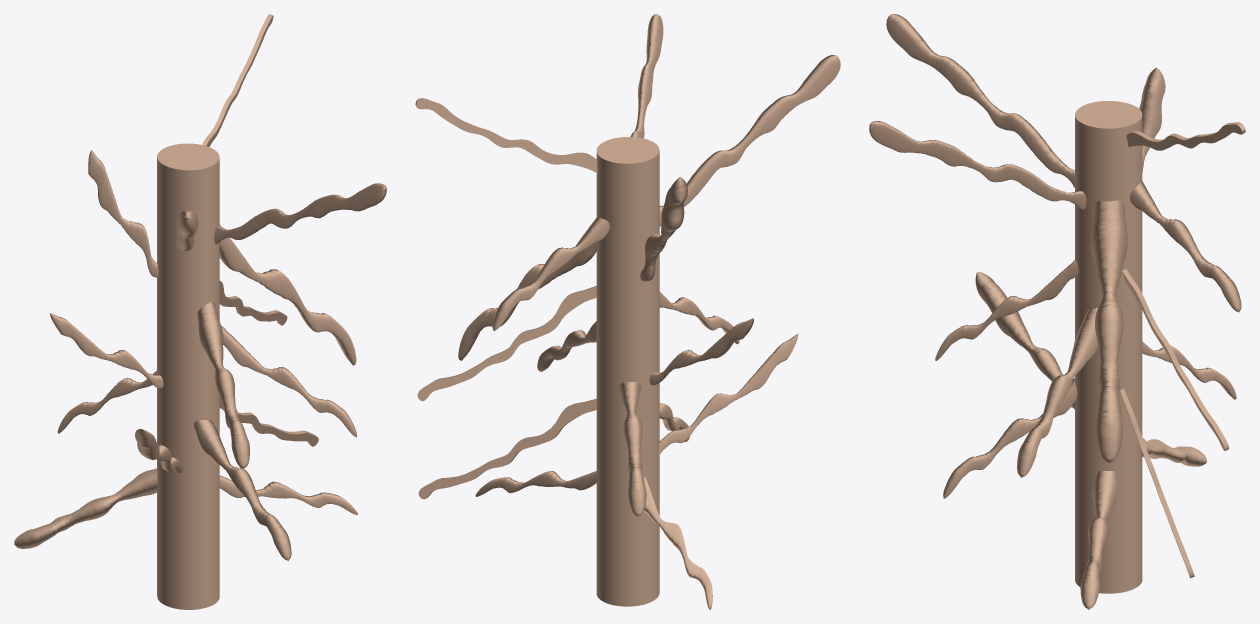
File: Tree_Start.glb
The picture shows the model from 3 angles, left to right: view 1: azimuth 30°, elevation 25°; view 2: azimuth 150°, elevation 25°; view 3: azimuth 270°, elevation 25°; orthographic projection. The views are drawn at different scales.
Parts seen in each view (by area): view 1: mesh_id38, mesh_id54, mesh_id52, mesh_id49, mesh_id63, mesh_id60, mesh_id55, mesh_id41, mesh_id64, mesh_id66, mesh_id53, mesh_id39 (+4 smaller); view 2: mesh_id38, mesh_id51, mesh_id68, mesh_id53, mesh_id69, mesh_id39, mesh_id65, mesh_id67, mesh_id41, mesh_id52, mesh_id49, mesh_id63 (+4 smaller); view 3: mesh_id38, mesh_id52, mesh_id51, mesh_id49, mesh_id55, mesh_id66, mesh_id67, mesh_id65, mesh_id54, mesh_id60, mesh_id68, mesh_id41 (+4 smaller).
Part boxes in pixels (bbox=[...]): mesh_id38: bbox=[157, 143, 219, 609]; mesh_id54: bbox=[197, 301, 249, 468]; mesh_id52: bbox=[219, 224, 356, 365]; mesh_id49: bbox=[214, 183, 386, 244]; mesh_id63: bbox=[14, 468, 157, 548]; mesh_id60: bbox=[194, 420, 291, 560]; mesh_id55: bbox=[221, 325, 356, 437]; mesh_id41: bbox=[88, 150, 158, 277]; mesh_id64: bbox=[49, 313, 163, 388]; mesh_id66: bbox=[219, 475, 357, 514]; mesh_id53: bbox=[57, 370, 156, 433]; mesh_id39: bbox=[202, 14, 273, 146]; mesh_id38: bbox=[596, 137, 659, 606]; mesh_id51: bbox=[659, 55, 840, 226]; mesh_id68: bbox=[417, 286, 596, 401]; mesh_id53: bbox=[618, 381, 646, 516]; mesh_id69: bbox=[418, 398, 596, 499]; mesh_id39: bbox=[415, 98, 597, 173]; mesh_id65: bbox=[658, 333, 798, 455]; mesh_id67: bbox=[492, 216, 609, 330]; mesh_id41: bbox=[640, 177, 687, 281]; mesh_id52: bbox=[458, 218, 596, 360]; mesh_id49: bbox=[630, 14, 663, 138]; mesh_id63: bbox=[643, 477, 712, 609]; mesh_id38: bbox=[1075, 101, 1142, 593]; mesh_id52: bbox=[1091, 200, 1127, 463]; mesh_id51: bbox=[886, 14, 1074, 187]; mesh_id49: bbox=[869, 121, 1086, 209]; mesh_id55: bbox=[1017, 308, 1097, 477]; mesh_id66: bbox=[1080, 471, 1117, 609]; mesh_id67: bbox=[1130, 181, 1241, 312]; mesh_id65: bbox=[975, 272, 1074, 409]; mesh_id54: bbox=[935, 260, 1078, 360]; mesh_id60: bbox=[943, 378, 1077, 498]; mesh_id68: bbox=[1122, 269, 1229, 450]; mesh_id41: bbox=[1139, 68, 1165, 172].
Size of the model in its own units: 0.9546 by 1.53 by 0.9821.
